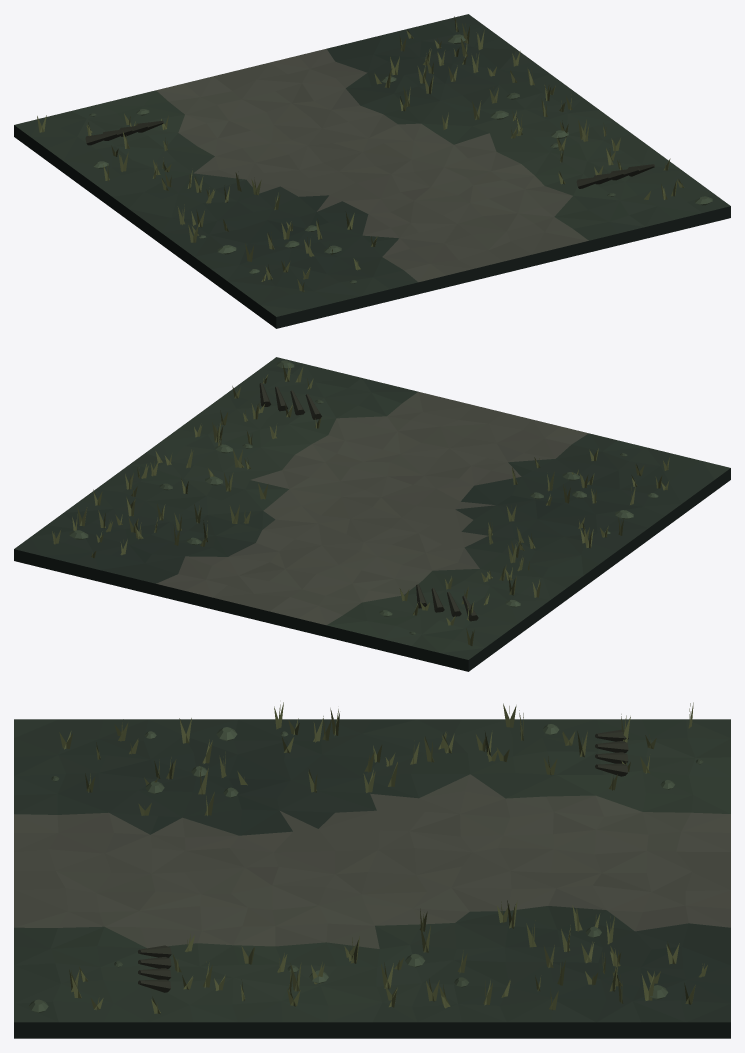
Rendered from CHUNK_dark_canopy_forest__root_passage.glb.
The picture shows the model from 3 angles, top to bottom: view 1: azimuth 30°, elevation 25°; view 2: azimuth 150°, elevation 25°; view 3: azimuth 270°, elevation 25°; orthographic projection. The views are drawn at different scales.
Parts seen in each view (by area): view 1: CHUNK_dark_canopy_forest__root_passage; view 2: CHUNK_dark_canopy_forest__root_passage; view 3: CHUNK_dark_canopy_forest__root_passage.
Boxes of the visible parts, x1=… form: CHUNK_dark_canopy_forest__root_passage: x1=14, y1=14, x2=730, y2=328; CHUNK_dark_canopy_forest__root_passage: x1=14, y1=357, x2=730, y2=671; CHUNK_dark_canopy_forest__root_passage: x1=14, y1=702, x2=730, y2=1038.
Size of the model in its own units: 8 by 0.5656 by 8.
